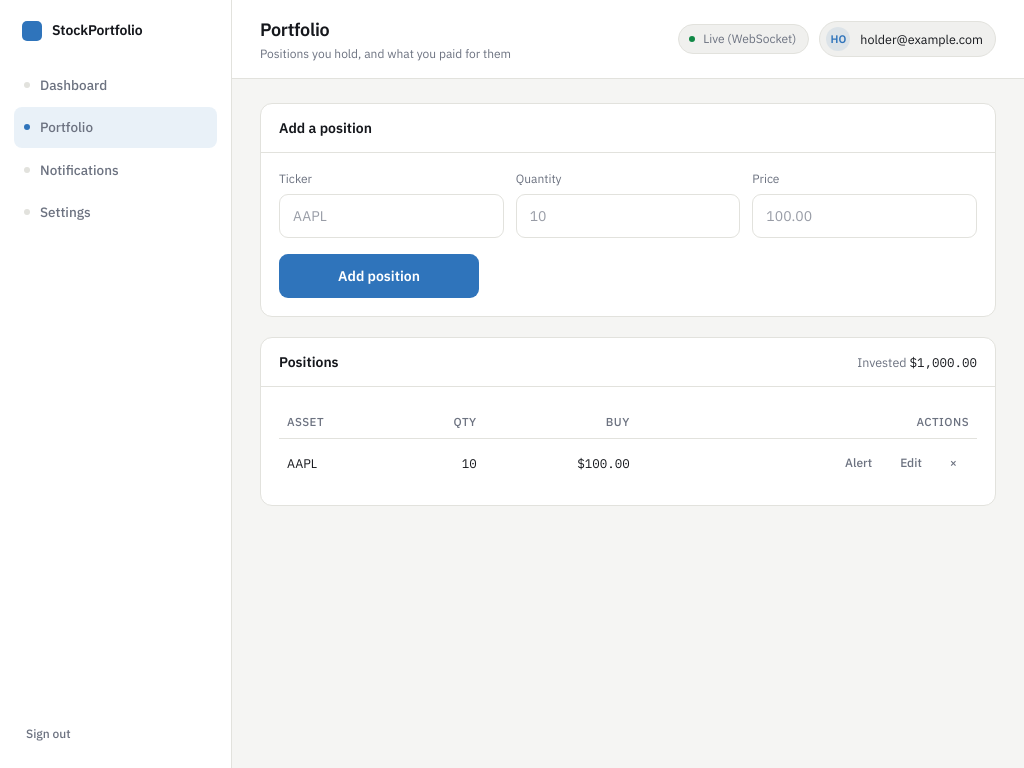
Scenario: portfolio › restores the row when an optimistic delete fails
The image size is (1024, 768).
Check: the heading "Portfolio" is shown, box [260,18,330,41]
Check: the text "AAPL" is shown, box [287,455,317,471]
Step 1. Click the button named "remove aapl" → click(953, 463), box [938,449,969,477]
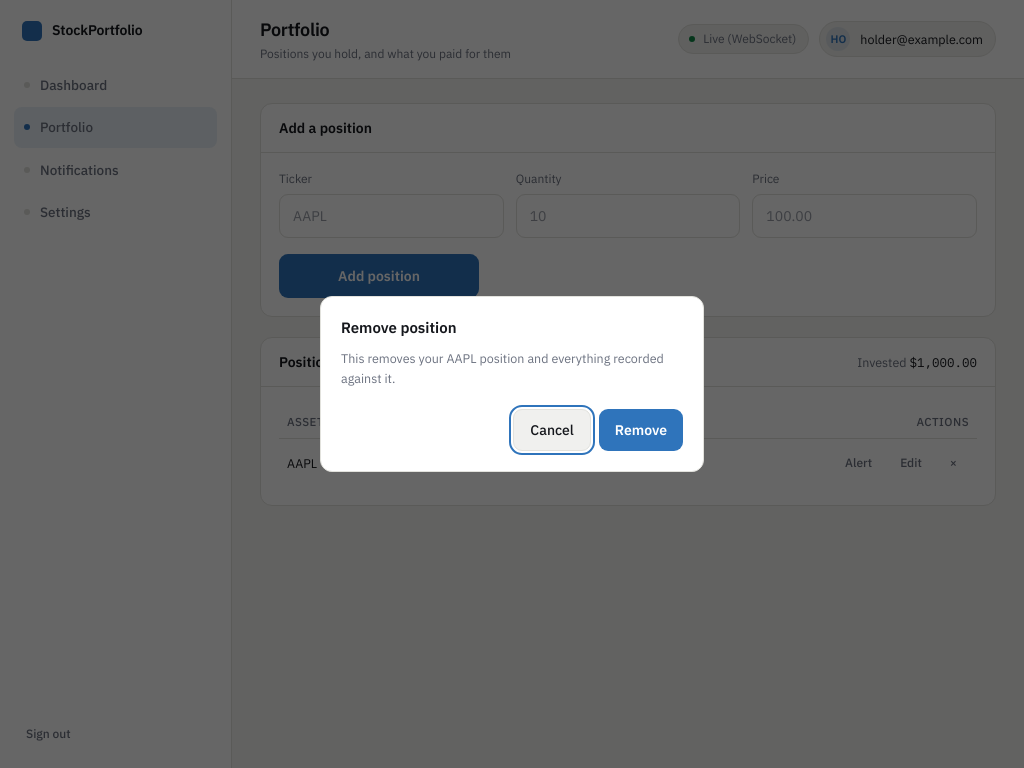
Step 2. Click the button "Remove" → click(641, 430), box [599,409,683,451]
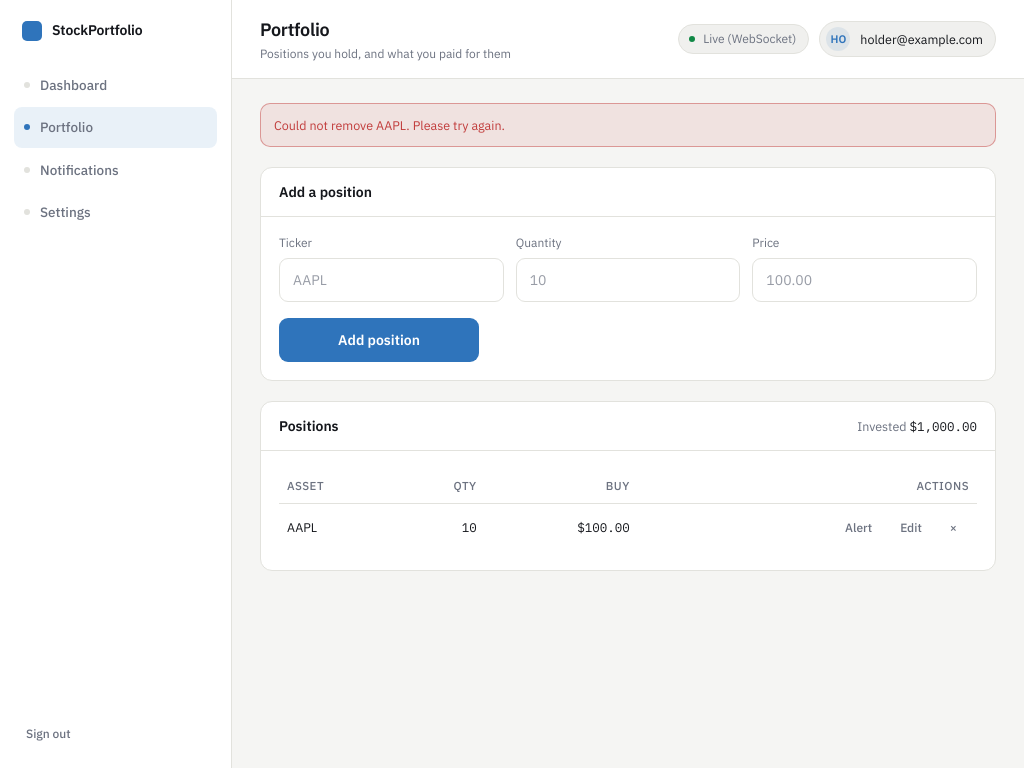
Check: the text "AAPL" is shown, box [287,519,317,535]
Check: the message shows "Could not remove AAPL", box [274,117,505,133]
